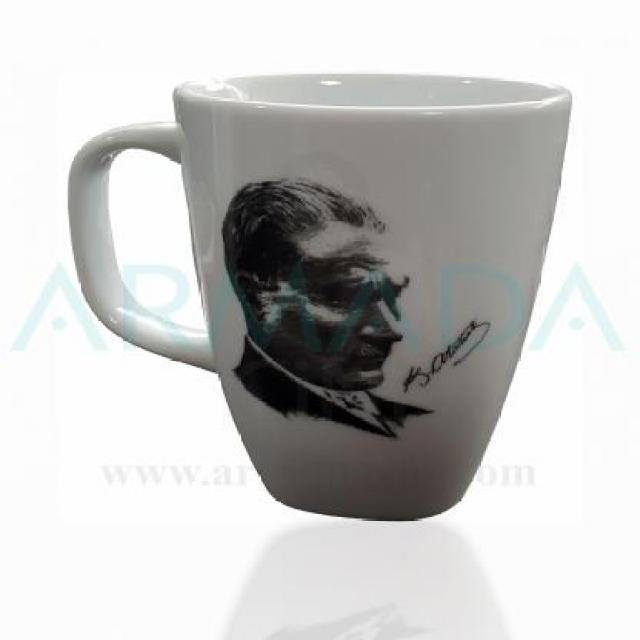taza: (56, 59, 584, 536)
